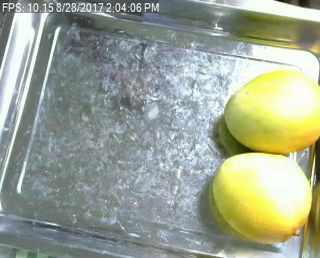Mango: (213, 150, 317, 241), (215, 69, 319, 153)
